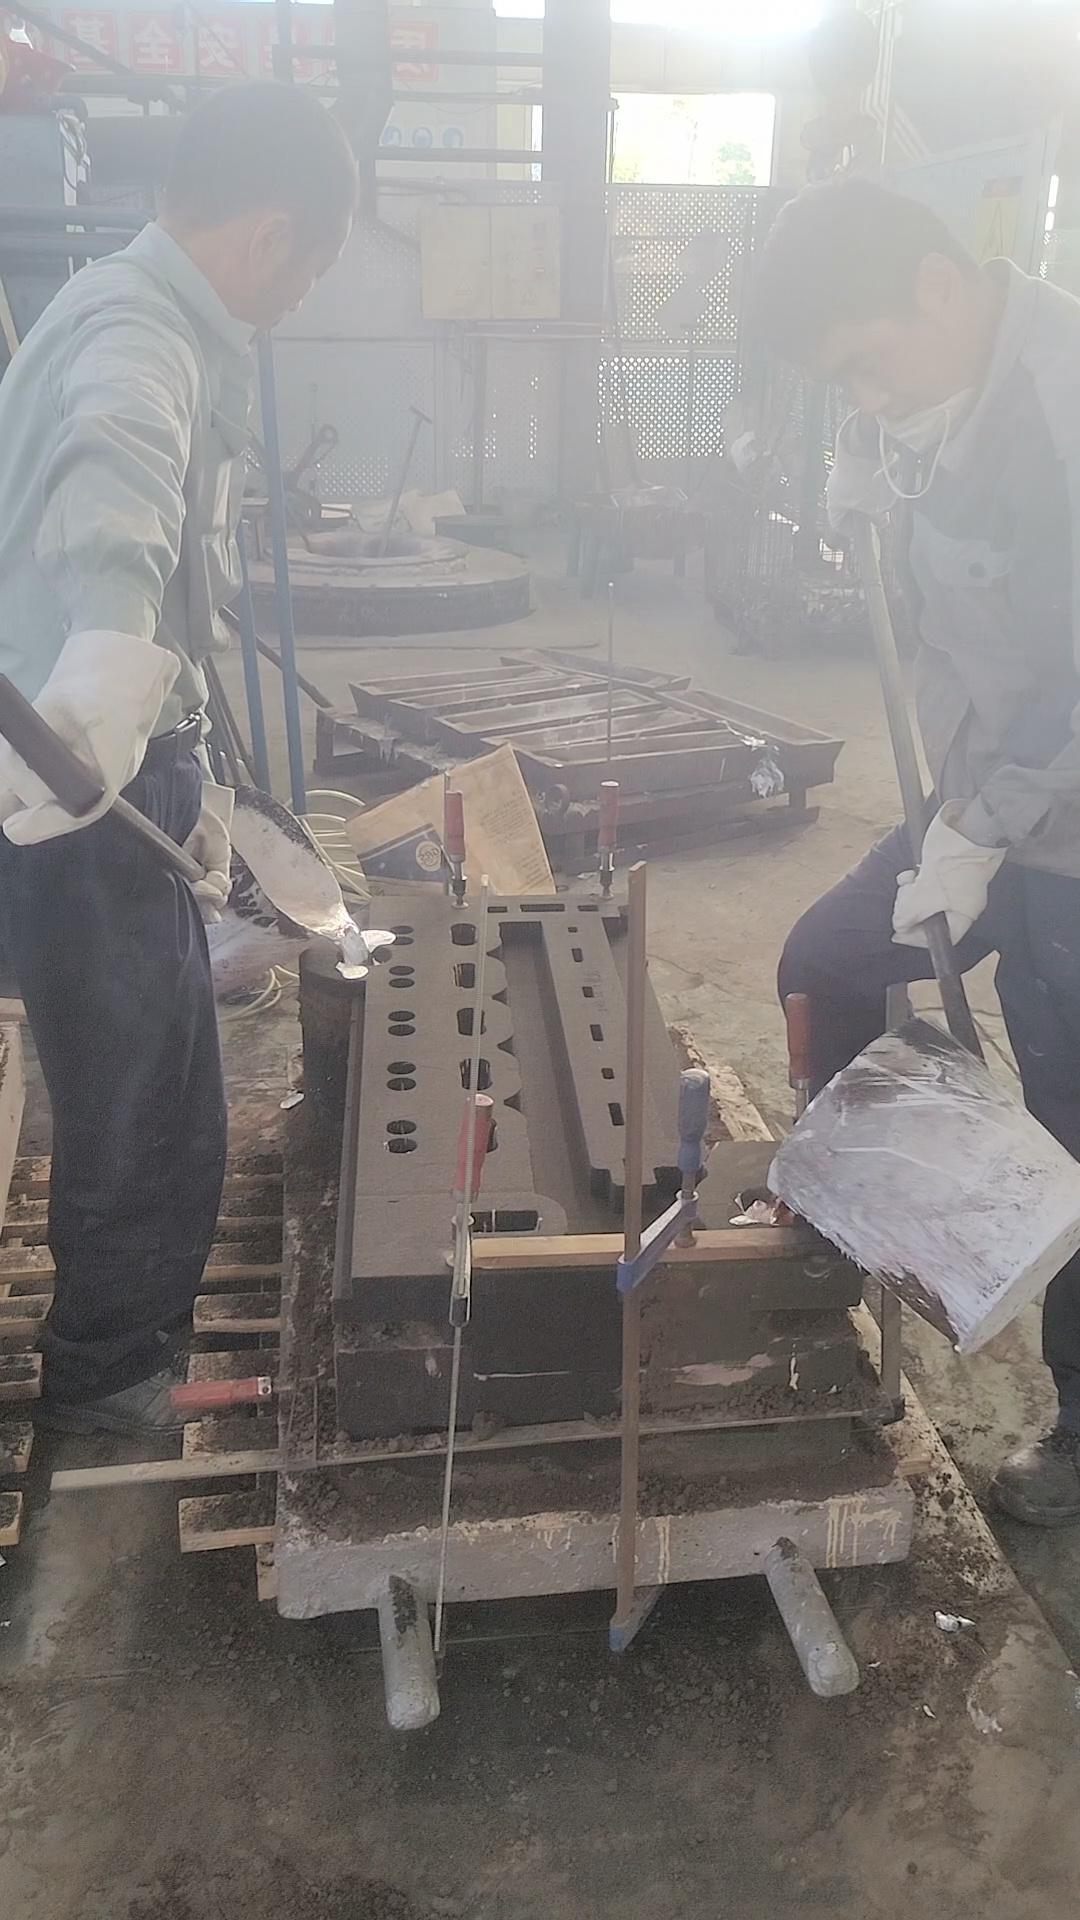pouring hole: (733, 1185, 808, 1226), (334, 945, 394, 968)
